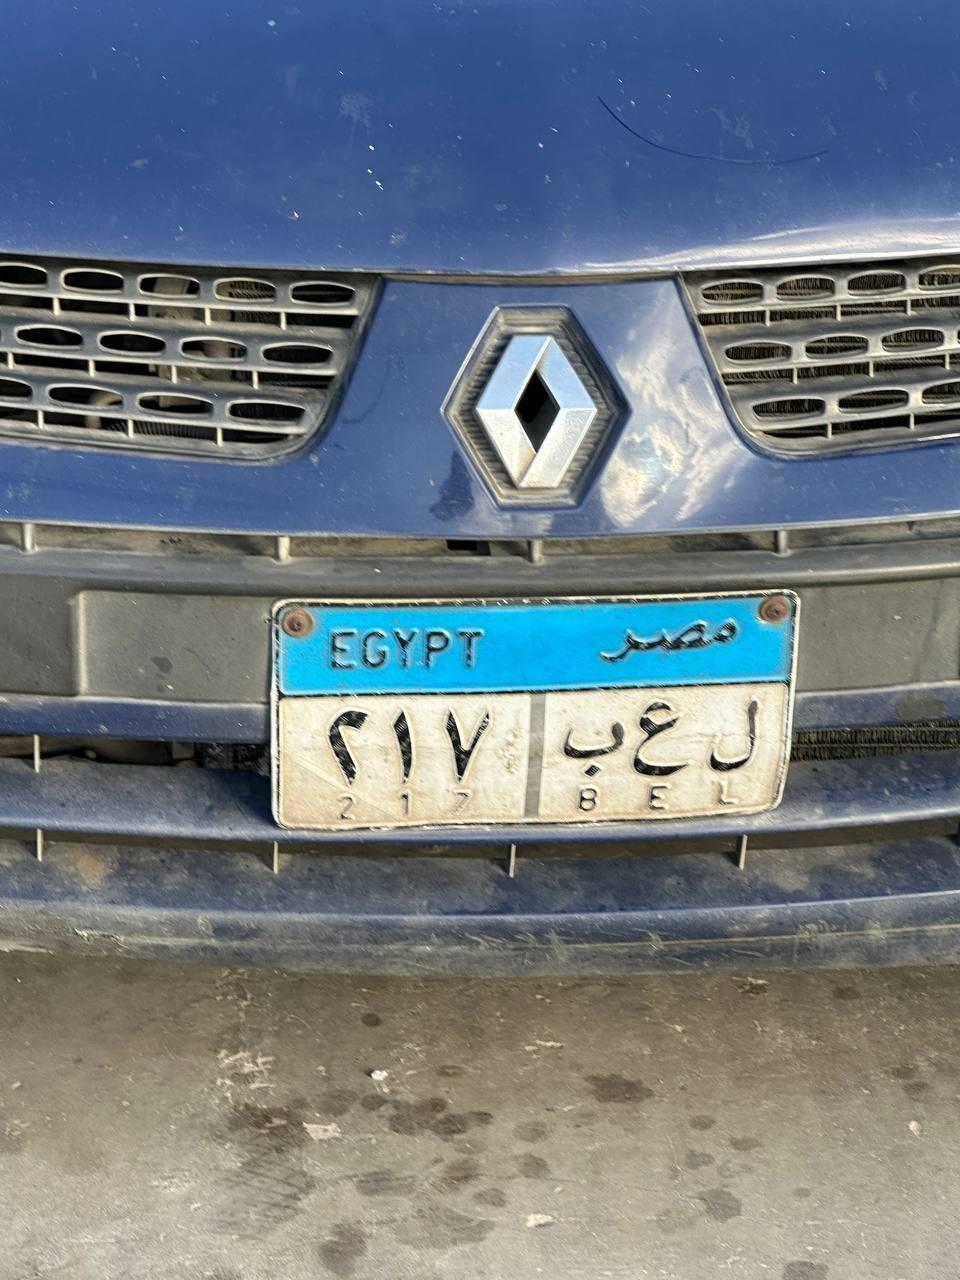1: (382, 695, 429, 788)
2: (321, 701, 382, 804)
7: (440, 694, 493, 772)
Een: (623, 685, 696, 796)
Laam: (700, 685, 783, 790)
License Plate: (265, 587, 801, 834)
baa: (555, 714, 623, 782)
